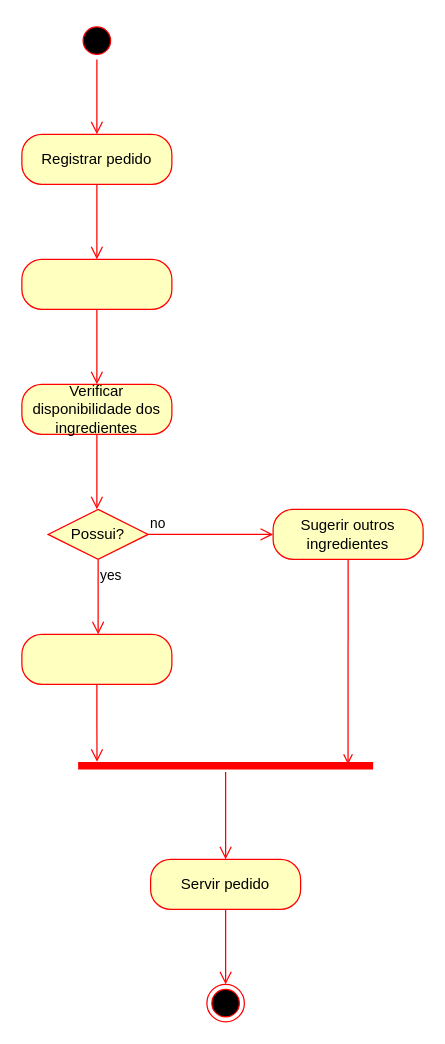
Some shapes in this 445 by 1044 pixel diagram are drawn without their labels. Each missing label, with the box of its shape:
Enviar para cozinha: (21, 258, 172, 309)
Preparar pedido: (21, 633, 172, 684)
